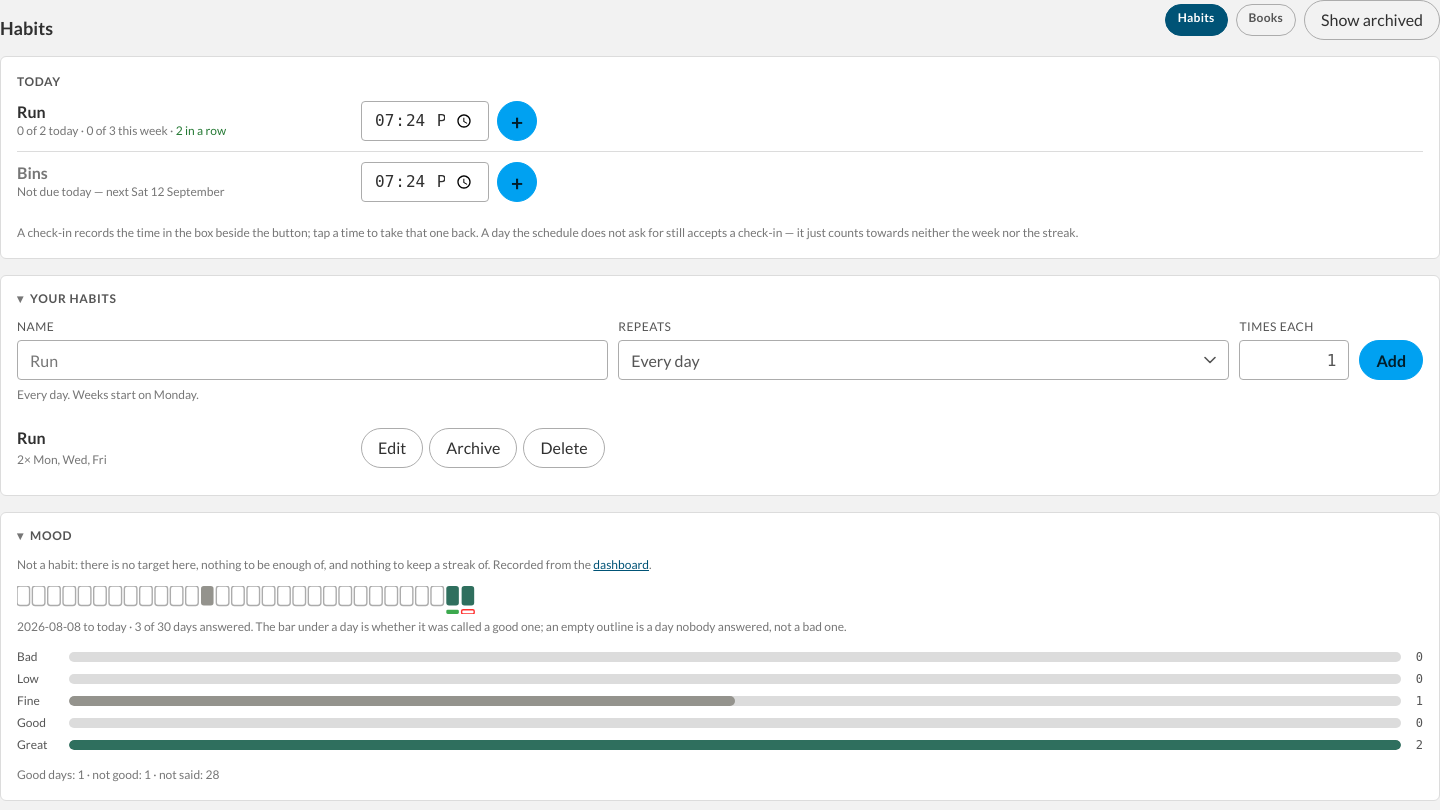
it: HabitsPage › opens the heat-map from the habit's name
The width and height of the screenshot is (1440, 810).
Click the button with aria-label "History for Run".
click(31, 111)  # box [17,102,337,121]
(page scrolled)
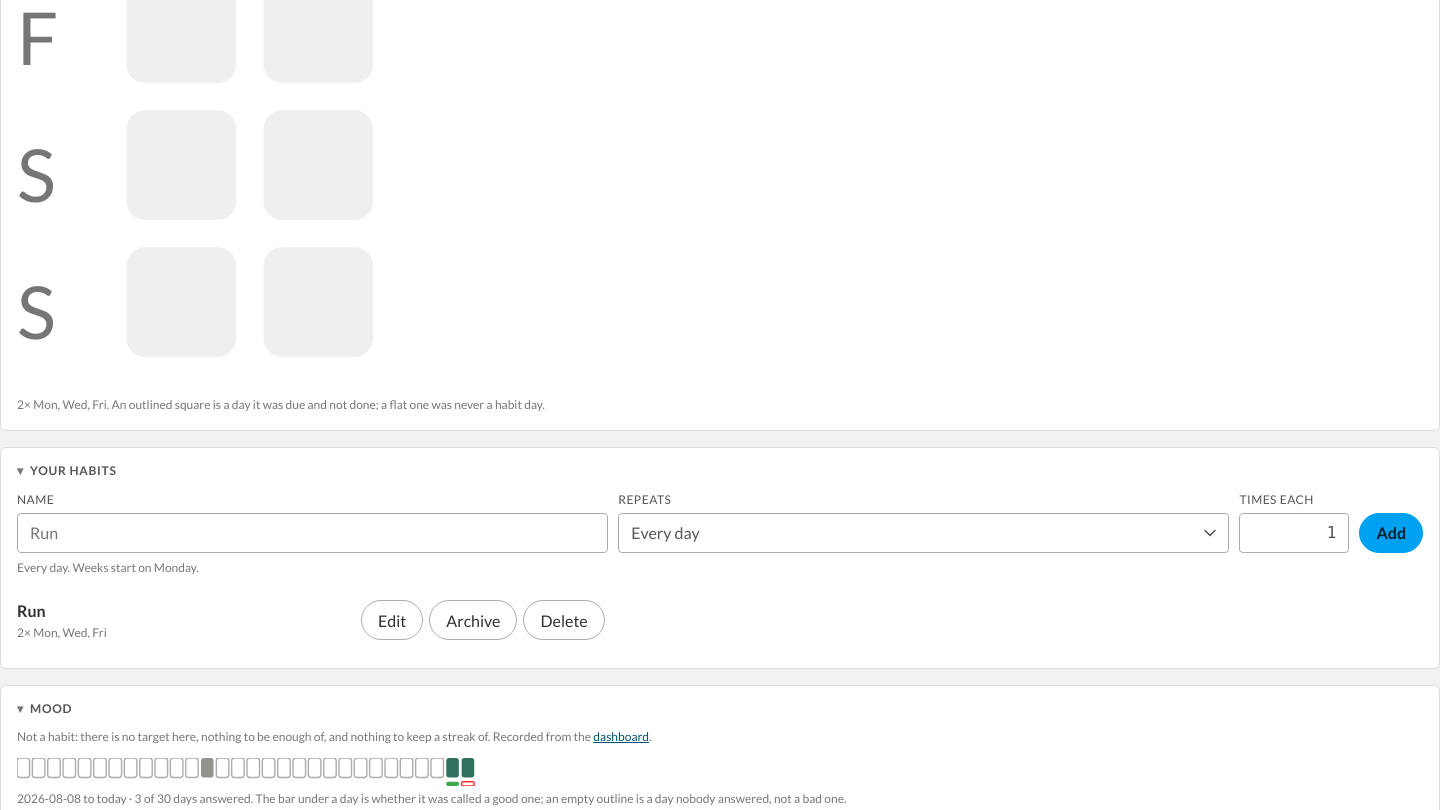
Now the text "never a habit day" is shown, box [112,397,545,412]
